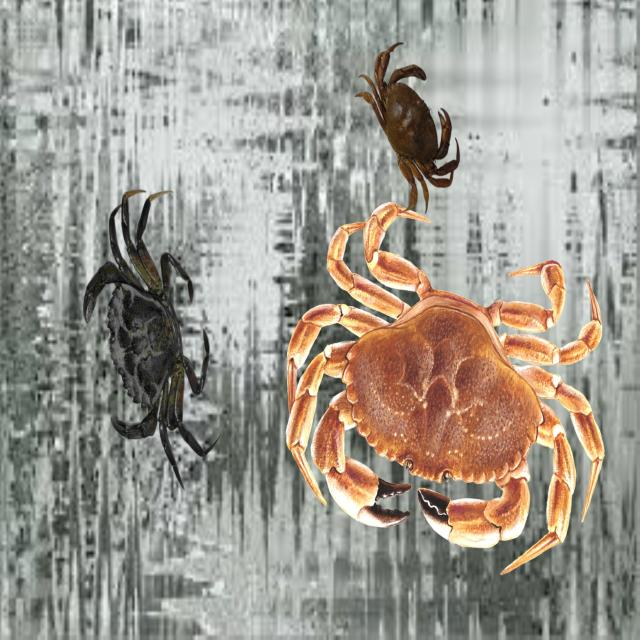European_Green_Crab: (54, 178, 238, 495)
